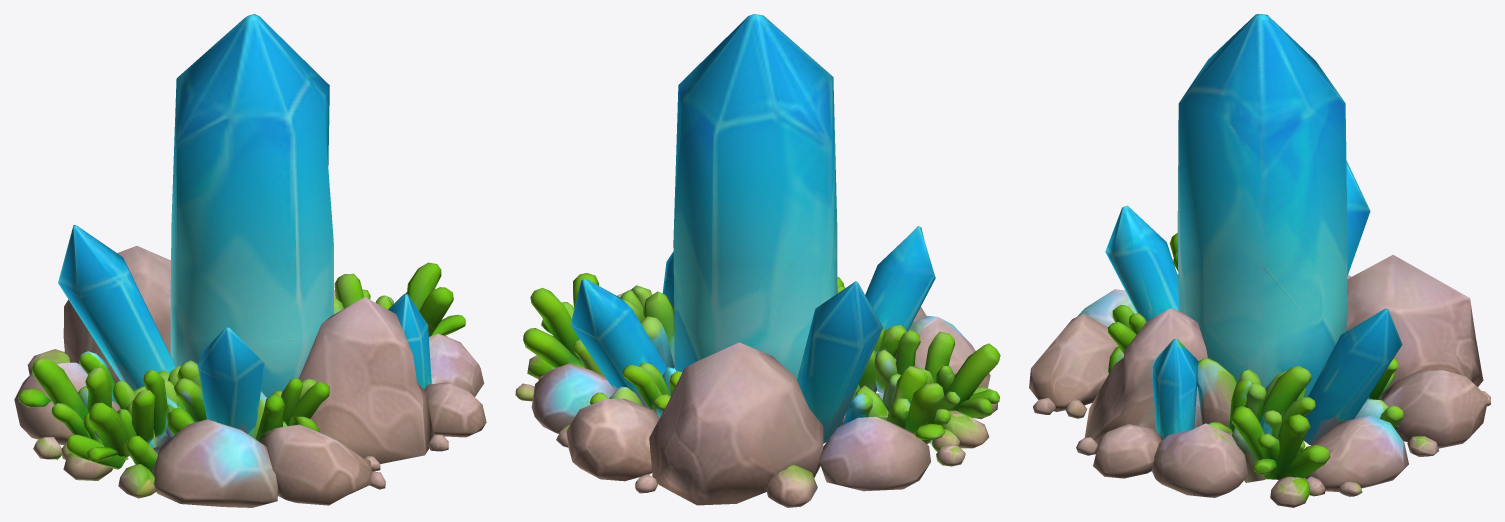
File: r4c4_tall_blue_crystal.glb
3 renders of one model, left to right at view 1: azimuth 30°, elevation 25°; view 2: azimuth 150°, elevation 25°; view 3: azimuth 270°, elevation 25°, orthographic.
Bounding box in the file's own units: 1 × 0.918 × 0.959.
Materials: 1 (1 with a texture image).
